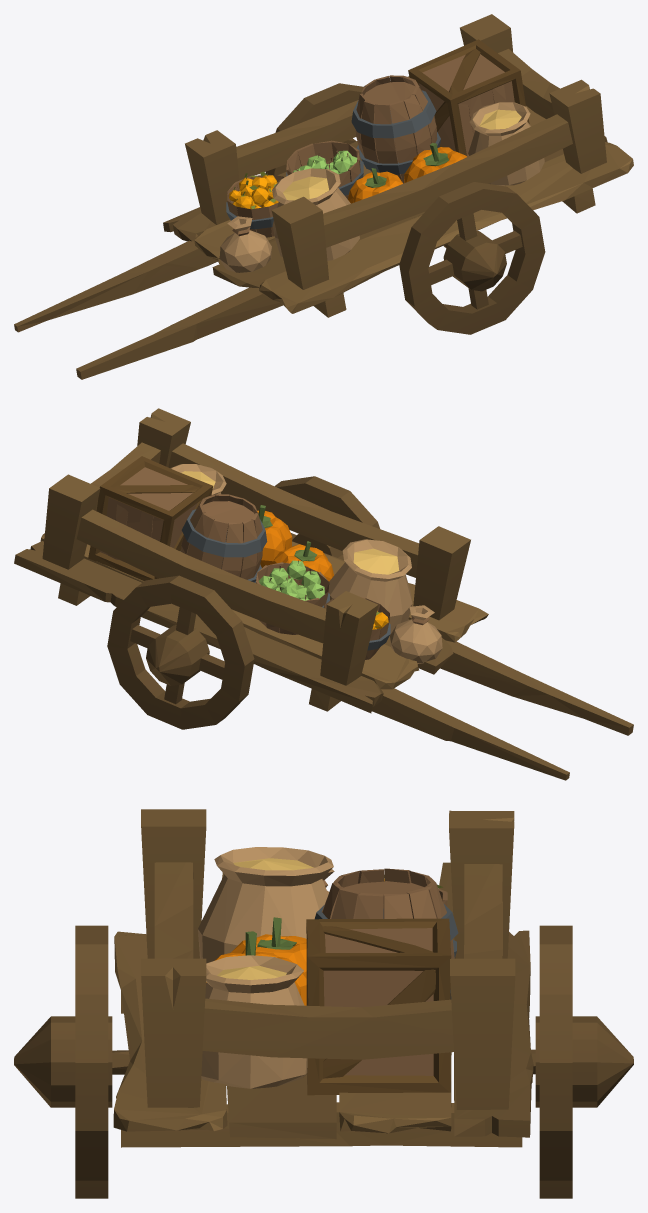
Rendered from Cart_02.fbx.
3 renders of one model, top to bottom at view 1: azimuth 30°, elevation 25°; view 2: azimuth 150°, elevation 25°; view 3: azimuth 270°, elevation 25°, orthographic. The views are drawn at different scales.
Visible parts, largest first — view 1: Cart_02; view 2: Cart_02; view 3: Cart_02.
Part boxes in pixels (x1,y1,x2,y2): Cart_02: (14,14,633,379); Cart_02: (14,408,633,780); Cart_02: (14,809,633,1198).
Size of the model in its own units: 2.99 by 1.03 by 1.76.
